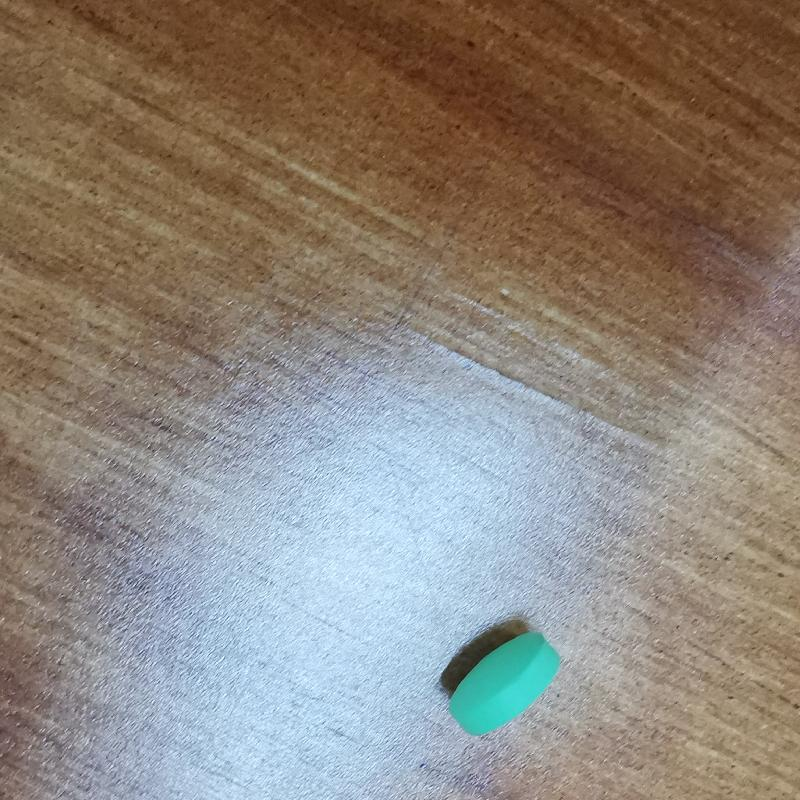pills: (441, 624, 576, 755)
